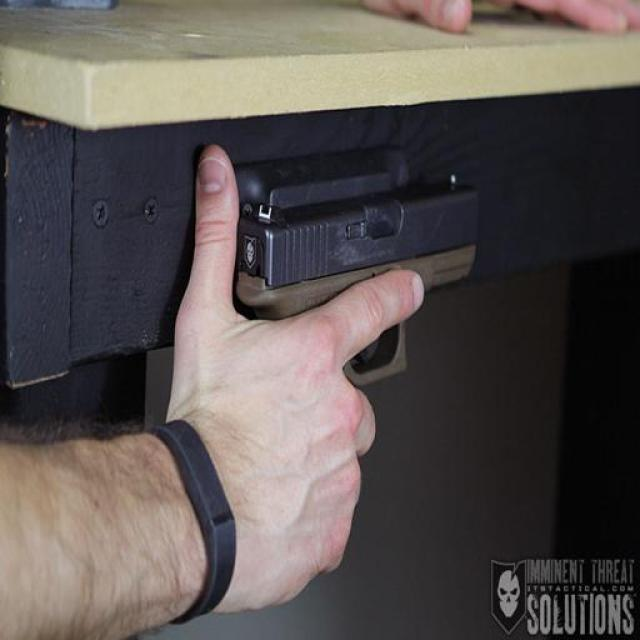pistol: (232, 152, 482, 382)
